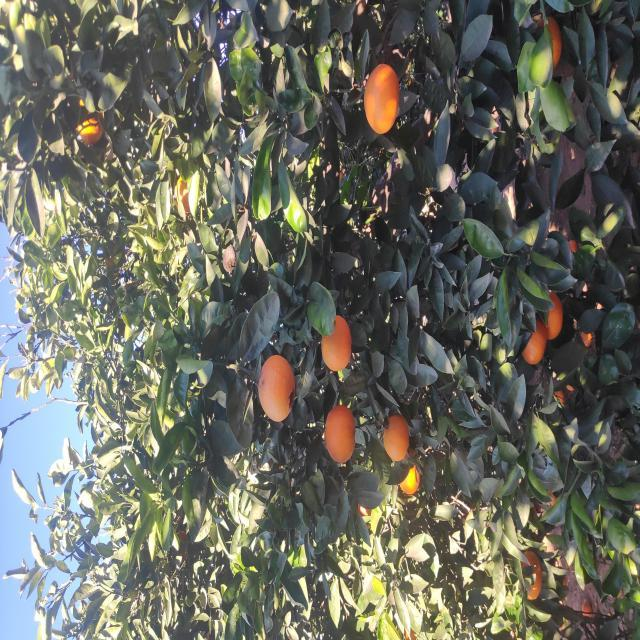Jeruk Sudah Matang: (218, 258, 286, 296), (506, 364, 576, 399), (179, 324, 235, 356), (269, 321, 325, 352), (572, 532, 624, 562), (275, 521, 327, 547), (495, 78, 540, 105), (179, 384, 227, 409), (40, 520, 90, 542), (146, 399, 192, 421), (300, 544, 350, 563), (423, 176, 465, 192), (18, 582, 41, 592), (293, 581, 308, 592), (134, 547, 150, 556), (236, 554, 250, 564), (386, 569, 402, 577)
